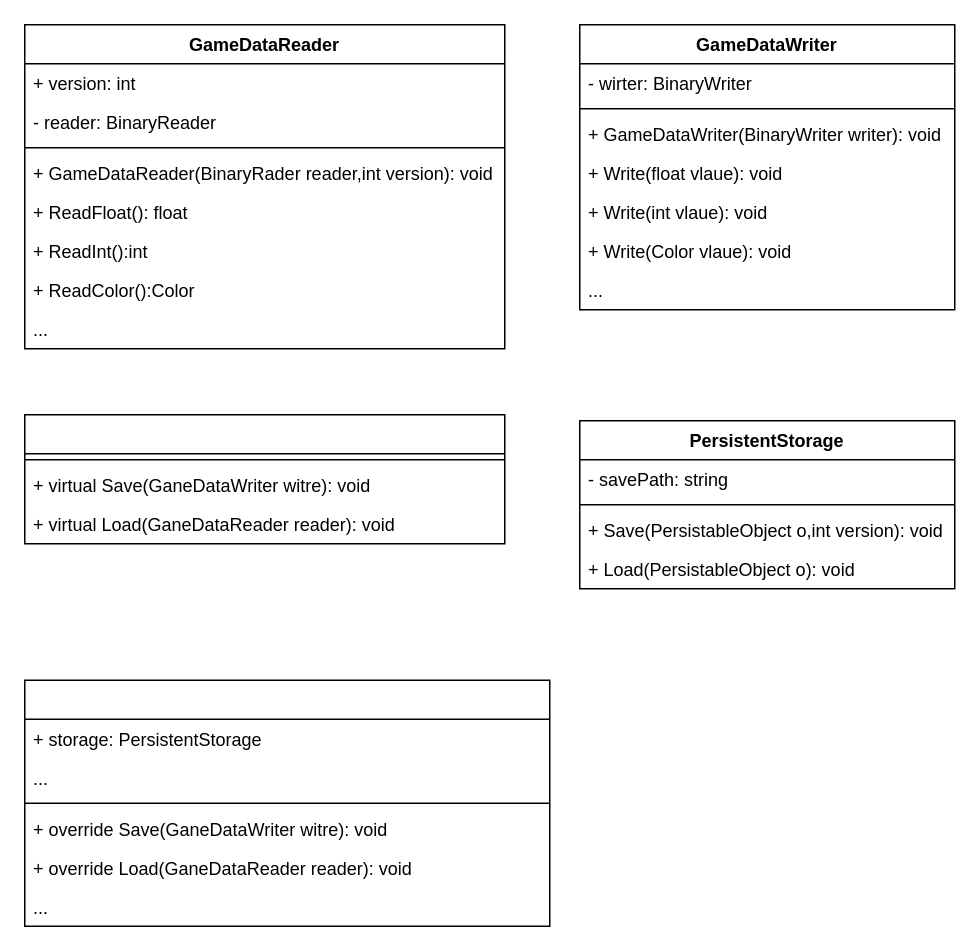
Image size: 980x951. Some labels were removed from this diagram. The shapes that lost their labels are listed below. From the top down, each one's box as (x1, y1, x2, y2) in pixels, then its label:
(23, 413, 505, 544): PersistableObject
(23, 679, 550, 926): GameManager:PersistableObject
